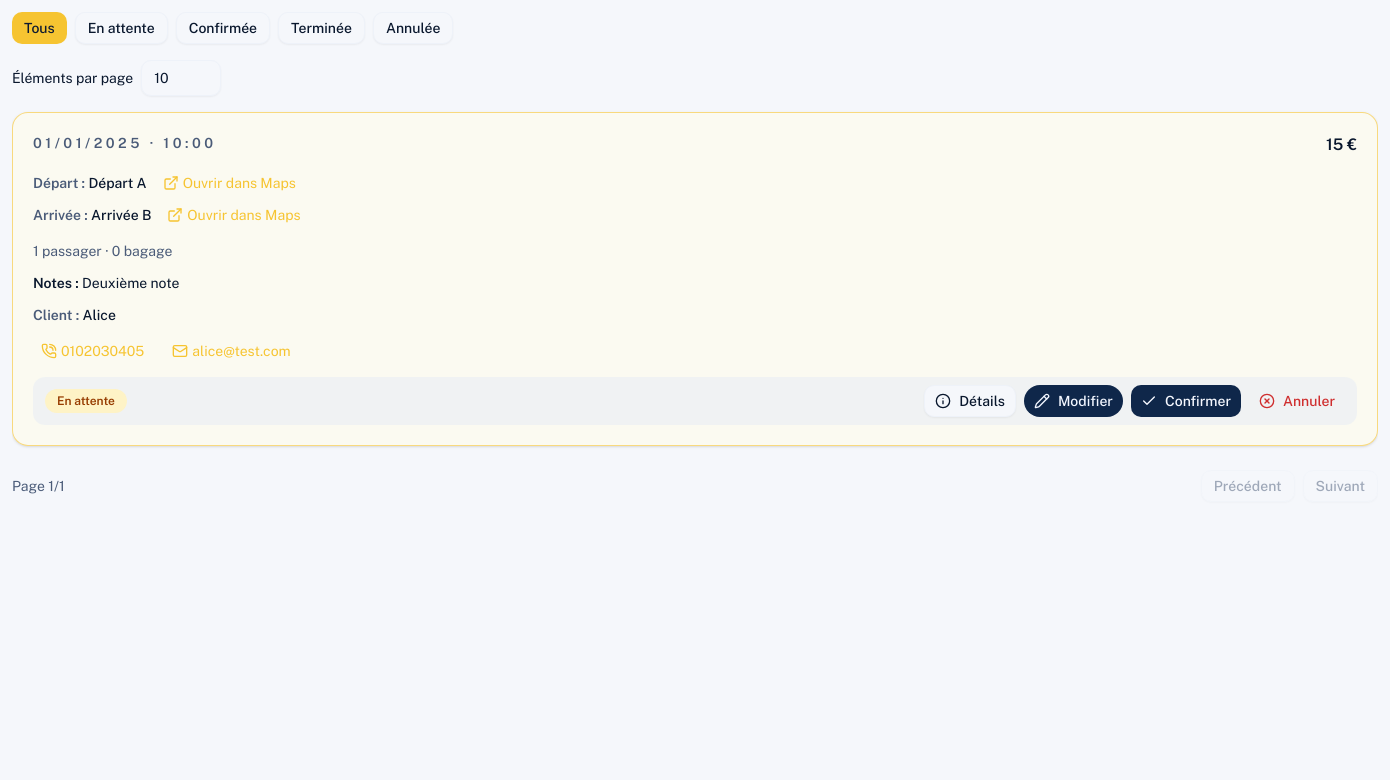
Scenario: BookingsAdminTable UI › affiche les détails via clic (testing-library)
Click the button "Détails".
click(970, 401)  # box [924,385,1016,417]
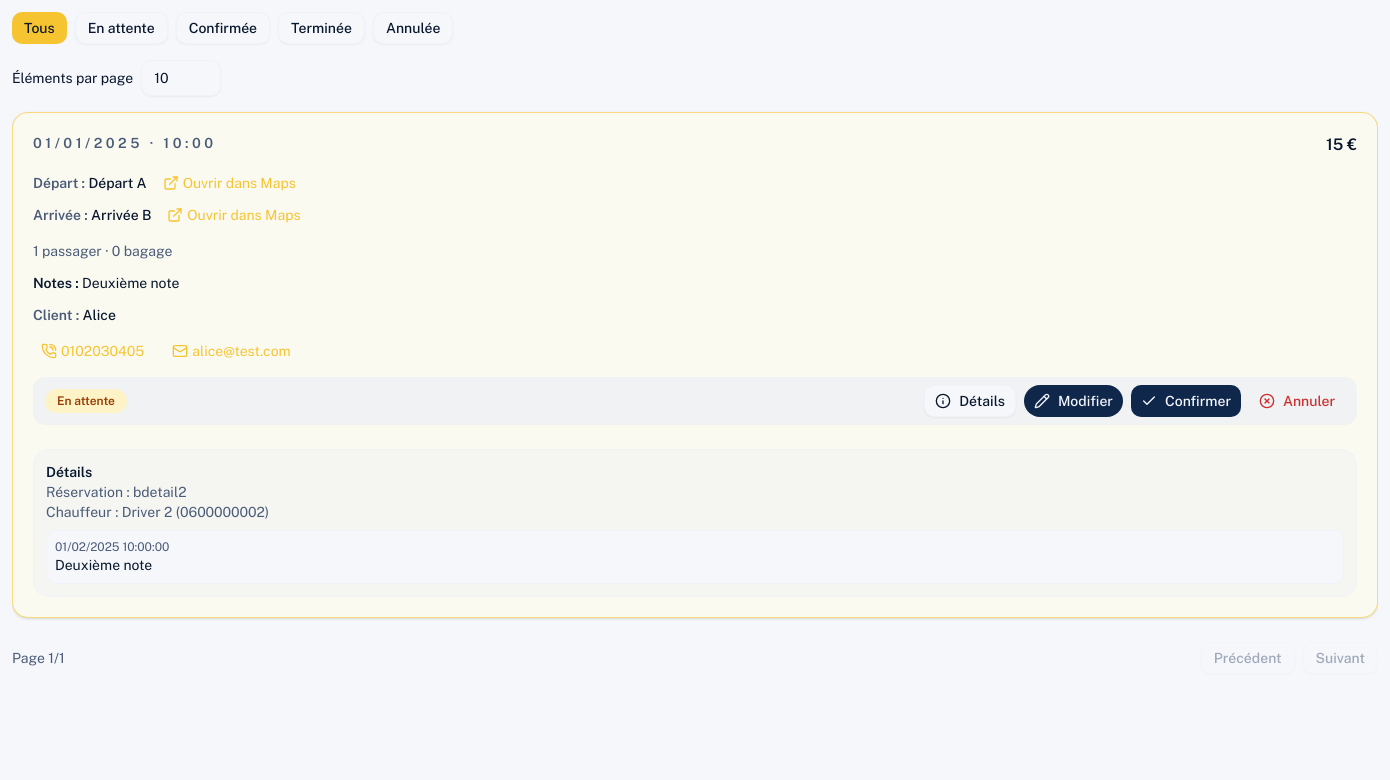
expect the text "Chauffeur : Driver 2 (0600000002)" is shown: met, box [46,504,269,520]
